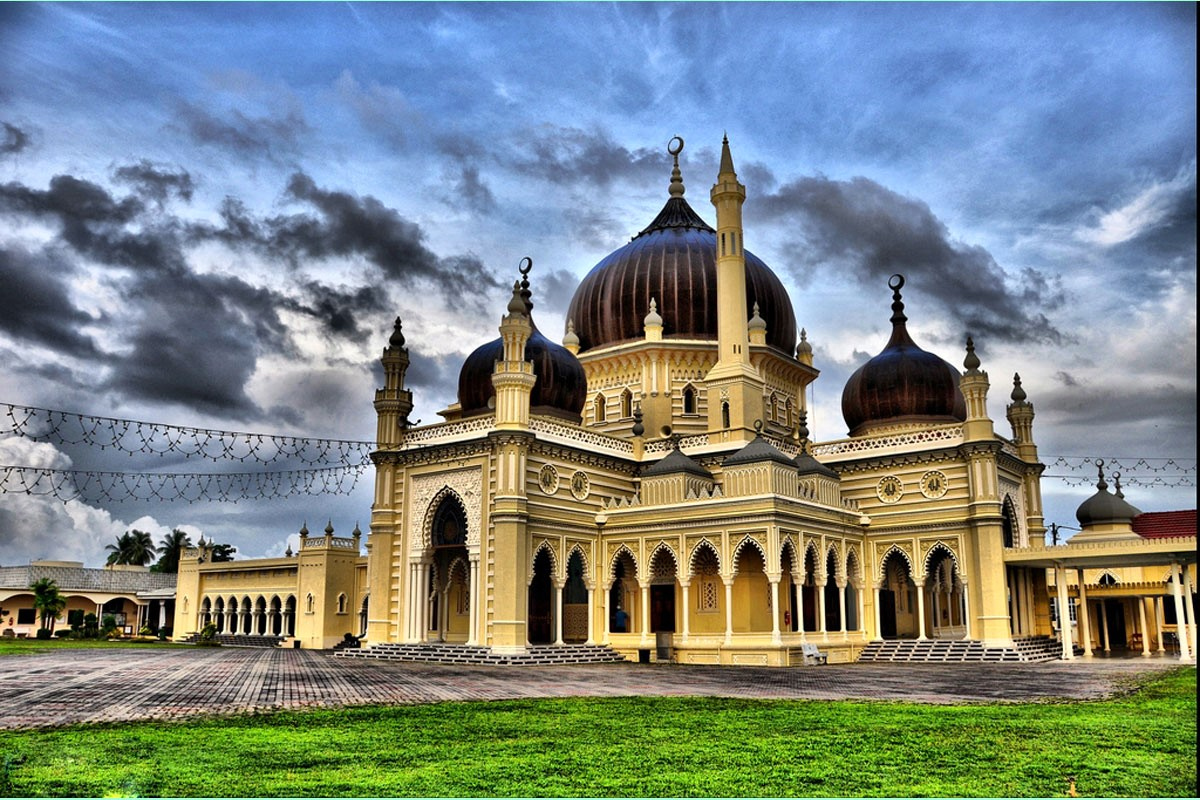Mosque: (162, 136, 1171, 684)
